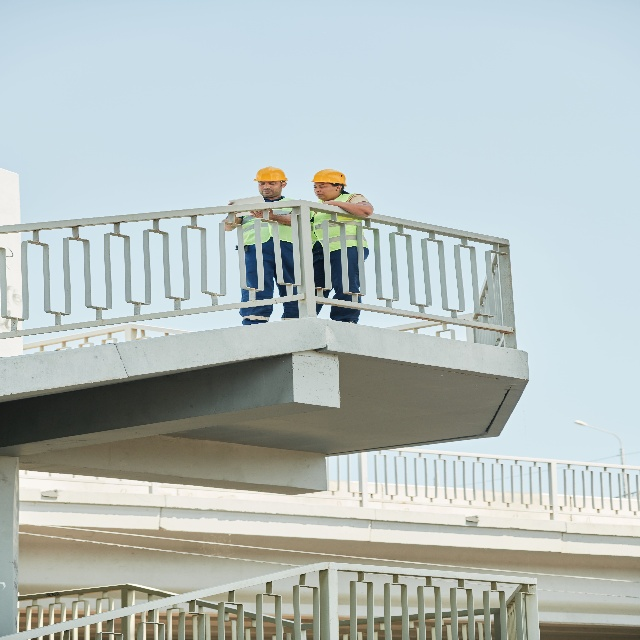Sin_guantes: (249, 208, 274, 220)
